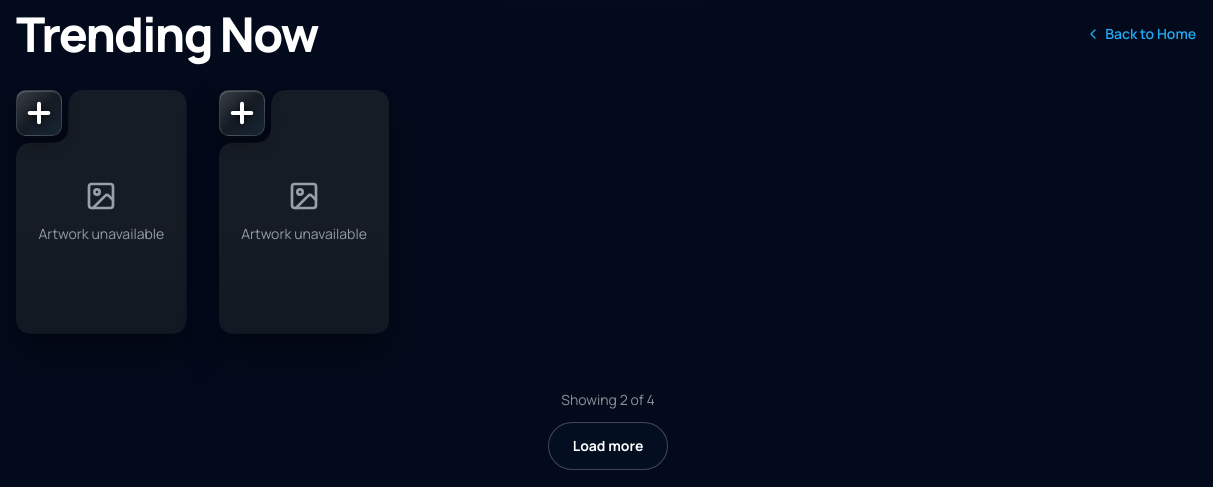
Test: BrowseExperience › does not show the same movie twice when TMDB repeats it on the next page
Click the button "Load more": (608, 446) [548, 422, 668, 470]
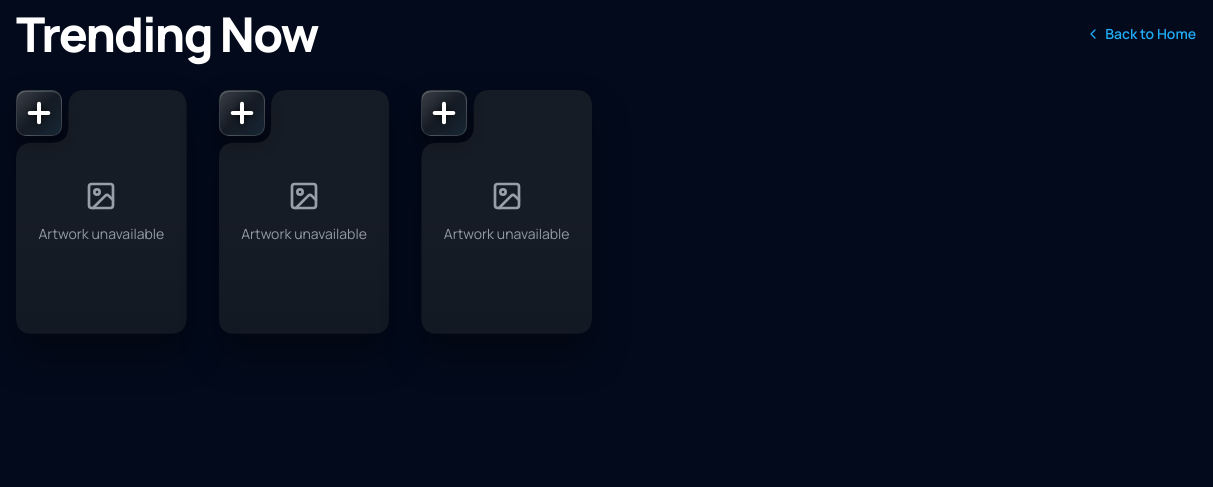
Expected: the number of links named "View details for Movie 2" is 1, [219, 90, 389, 334]
Expected: the link with aria-label "View details for Movie 3" is shown, [421, 90, 592, 334]
